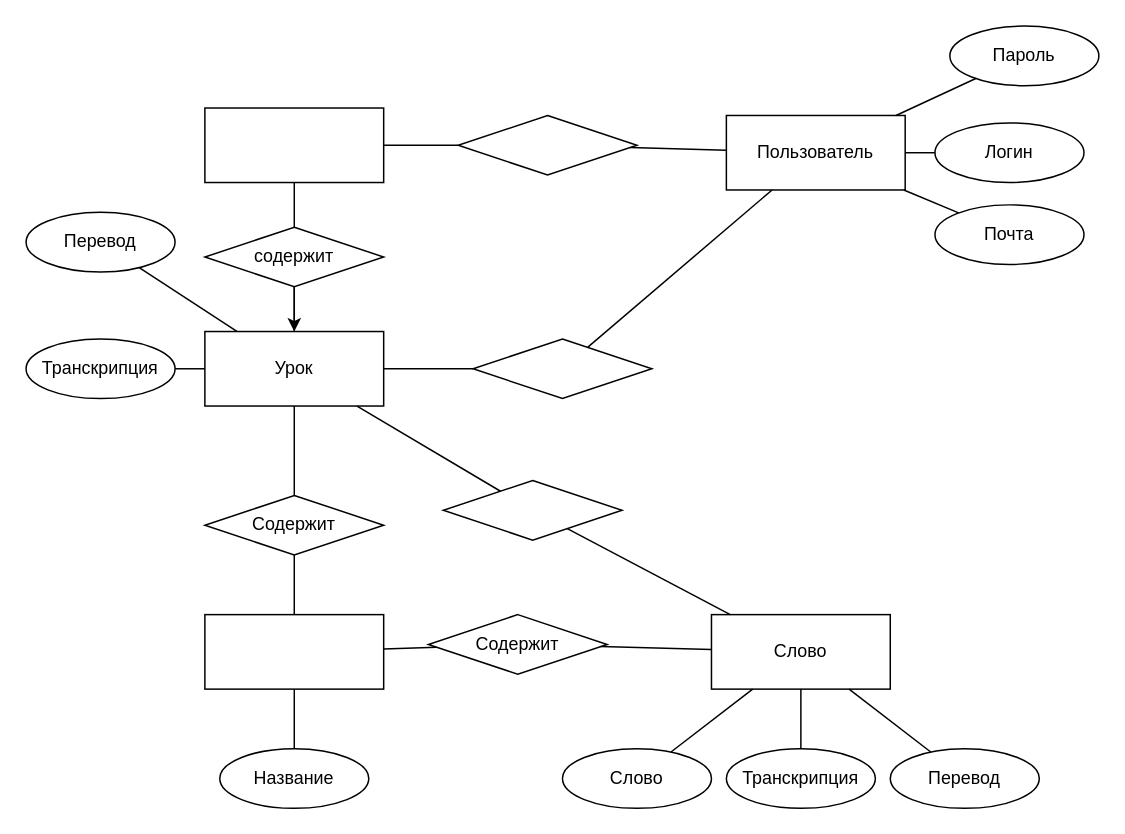
This 1125x834 diagram has some shape labels left out. Each missing label, with the centre of its shape:
видит: the point at 547,144
имеется: the point at 532,509
Пройденные уроки: the point at 293,145
проходит: the point at 562,368
Язык: the point at 293,651
